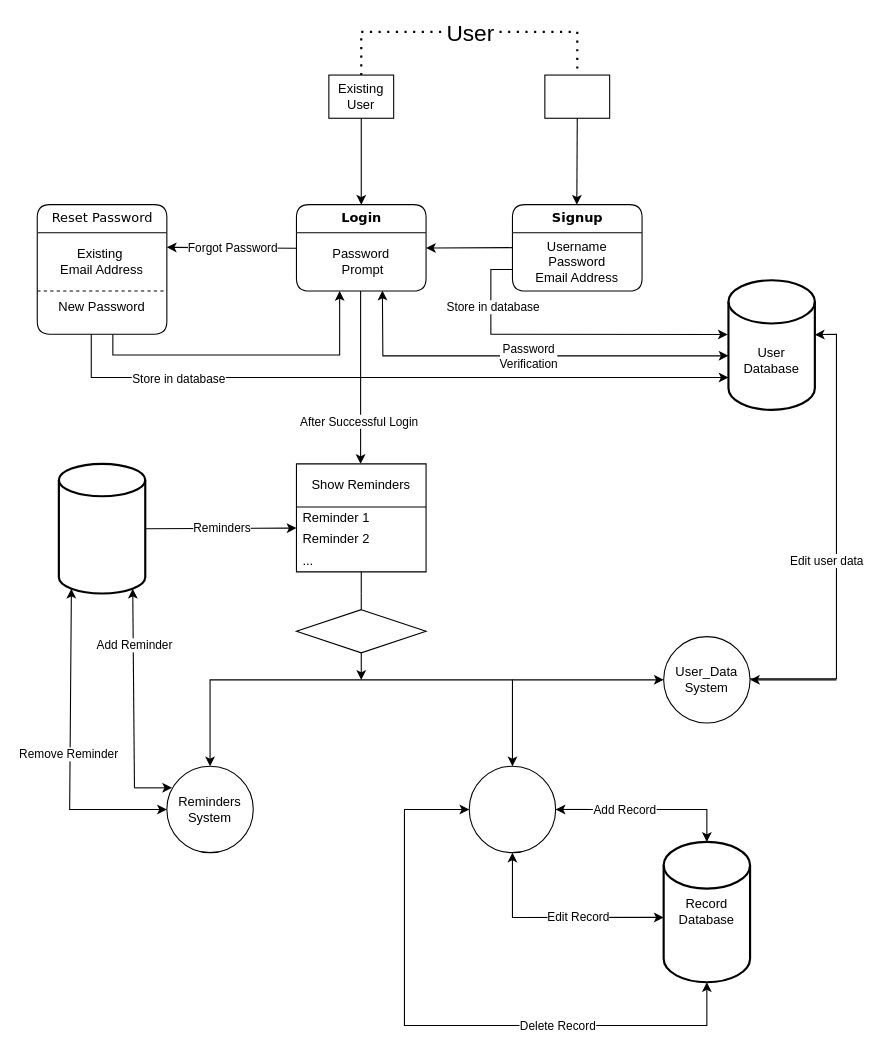
Some shapes in this 881 by 1054 pixel diagram are drawn without their labels. Here are the shapes that lost their labels. From the top down, the centre of each, then its label:
(577,96): New User
(101,528): Reminder Database
(360,631): Menu / UI
(512,809): Records System
